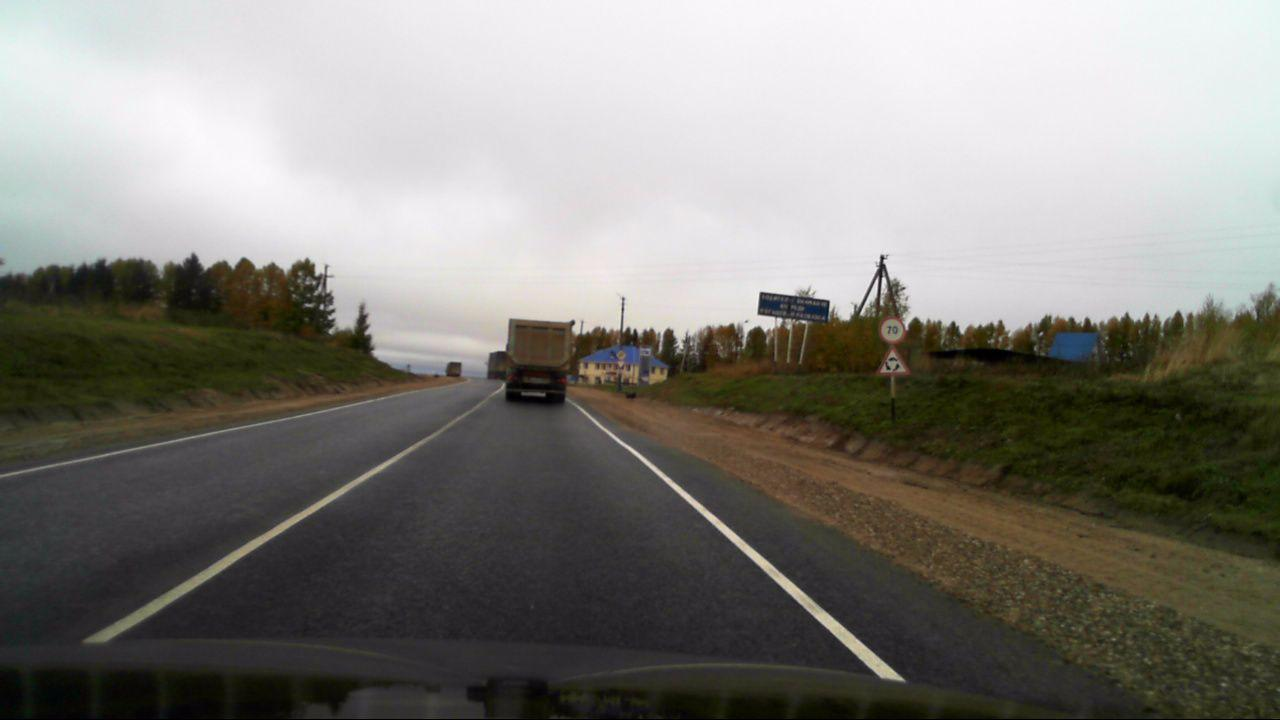1_7: (876, 348, 907, 374)
2_2: (615, 349, 628, 360)
2_4: (616, 360, 625, 369)
3_24: (877, 316, 907, 344)
